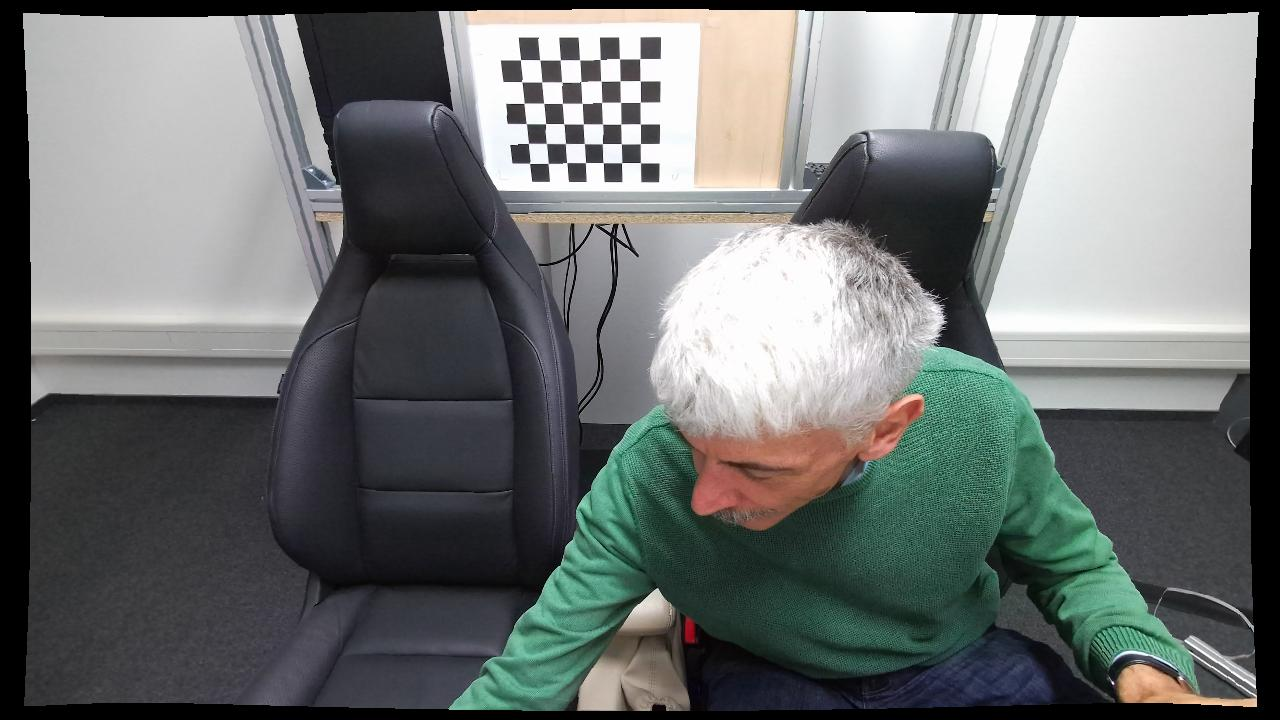Distracted: (441, 219, 1248, 711)
